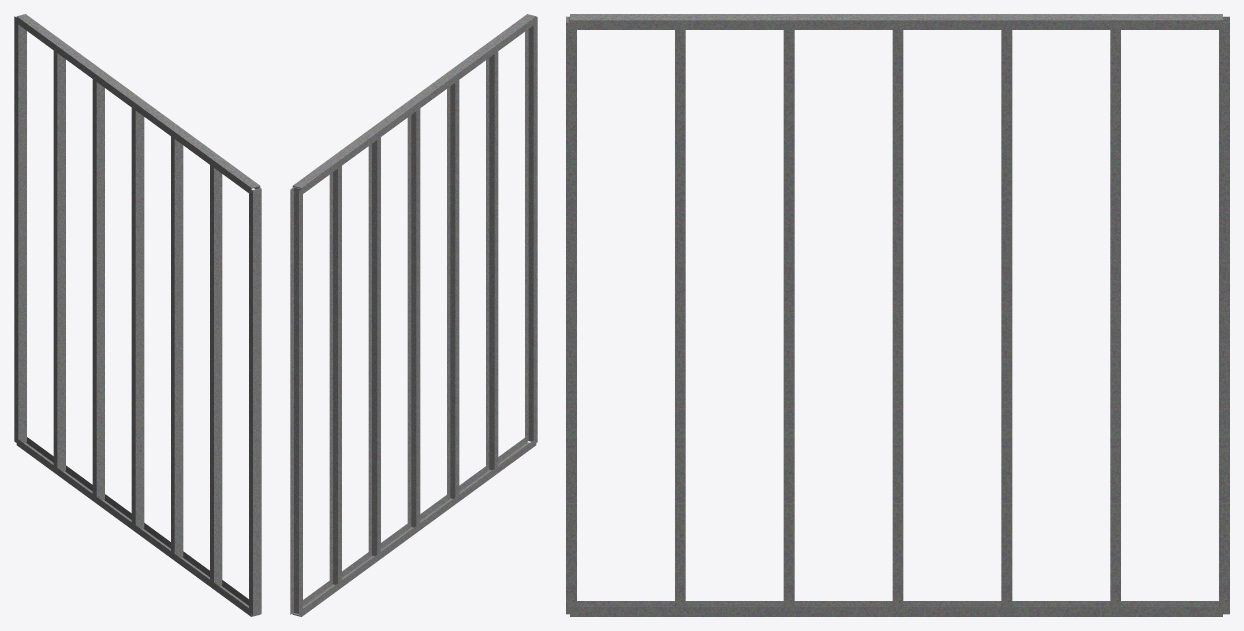
The model's file is SM_CStudWall.fbx.
The picture shows the model from 3 angles, left to right: view 1: azimuth 30°, elevation 25°; view 2: azimuth 150°, elevation 25°; view 3: azimuth 270°, elevation 25°; orthographic projection. The views are drawn at different scales.
Visible parts, largest first — view 1: CStud; view 2: CStud; view 3: CStud.
Part boxes in pixels (x1,y1,x2,y2): CStud: (14, 14, 261, 616); CStud: (290, 14, 537, 616); CStud: (566, 14, 1229, 616).
Size of the model in its own units: 5.4 by 244 by 242.
1 material, 1 textured.
